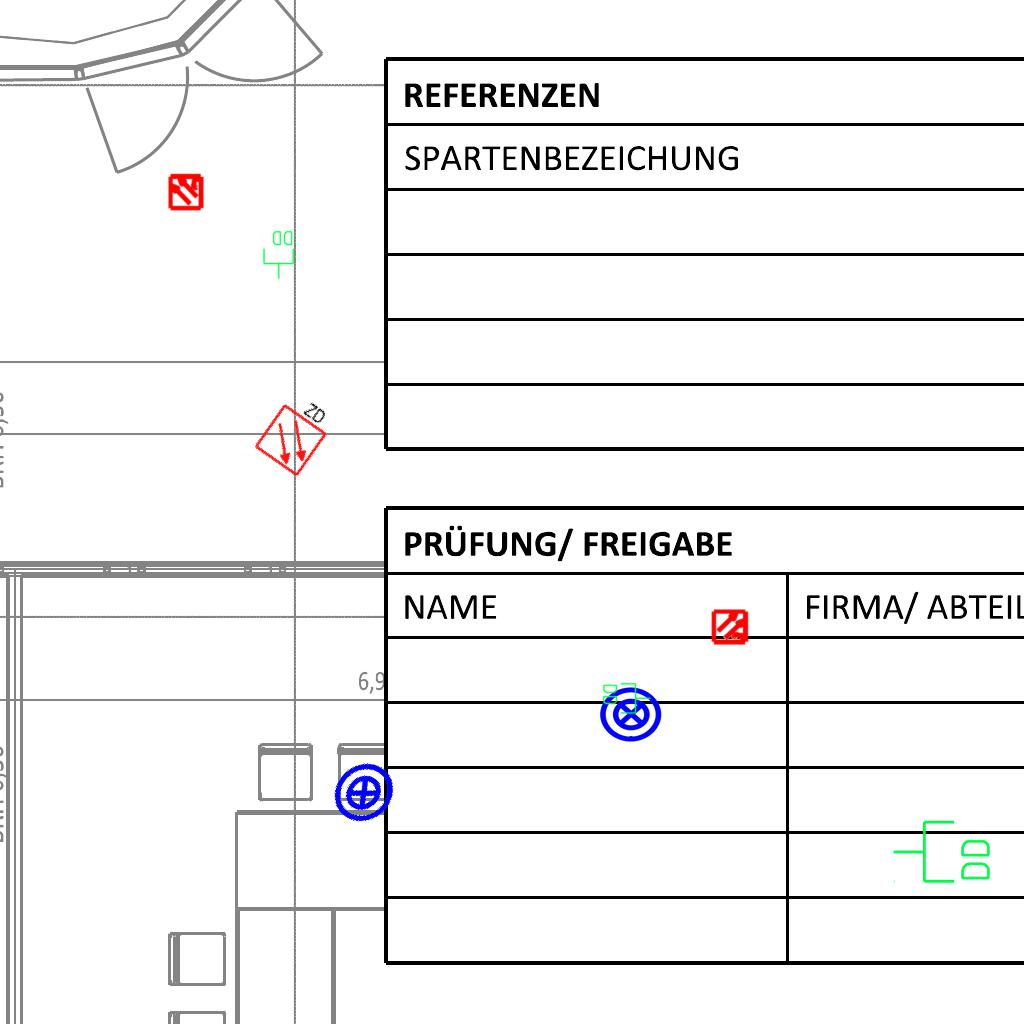Datenanschluss_zweifach: (891, 818, 994, 887), (262, 229, 296, 280), (601, 681, 652, 715)
OT_Multisensormelder_(Kombination_RMO_WMD): (158, 163, 214, 219), (703, 599, 759, 655)
Taster_beleuchtet: (317, 746, 411, 840), (598, 681, 664, 747)
ZD_Melder_in_Zwischendecke_mit_Revisionsoeffnung_mind_40_x_40_cm: (250, 385, 341, 479)
